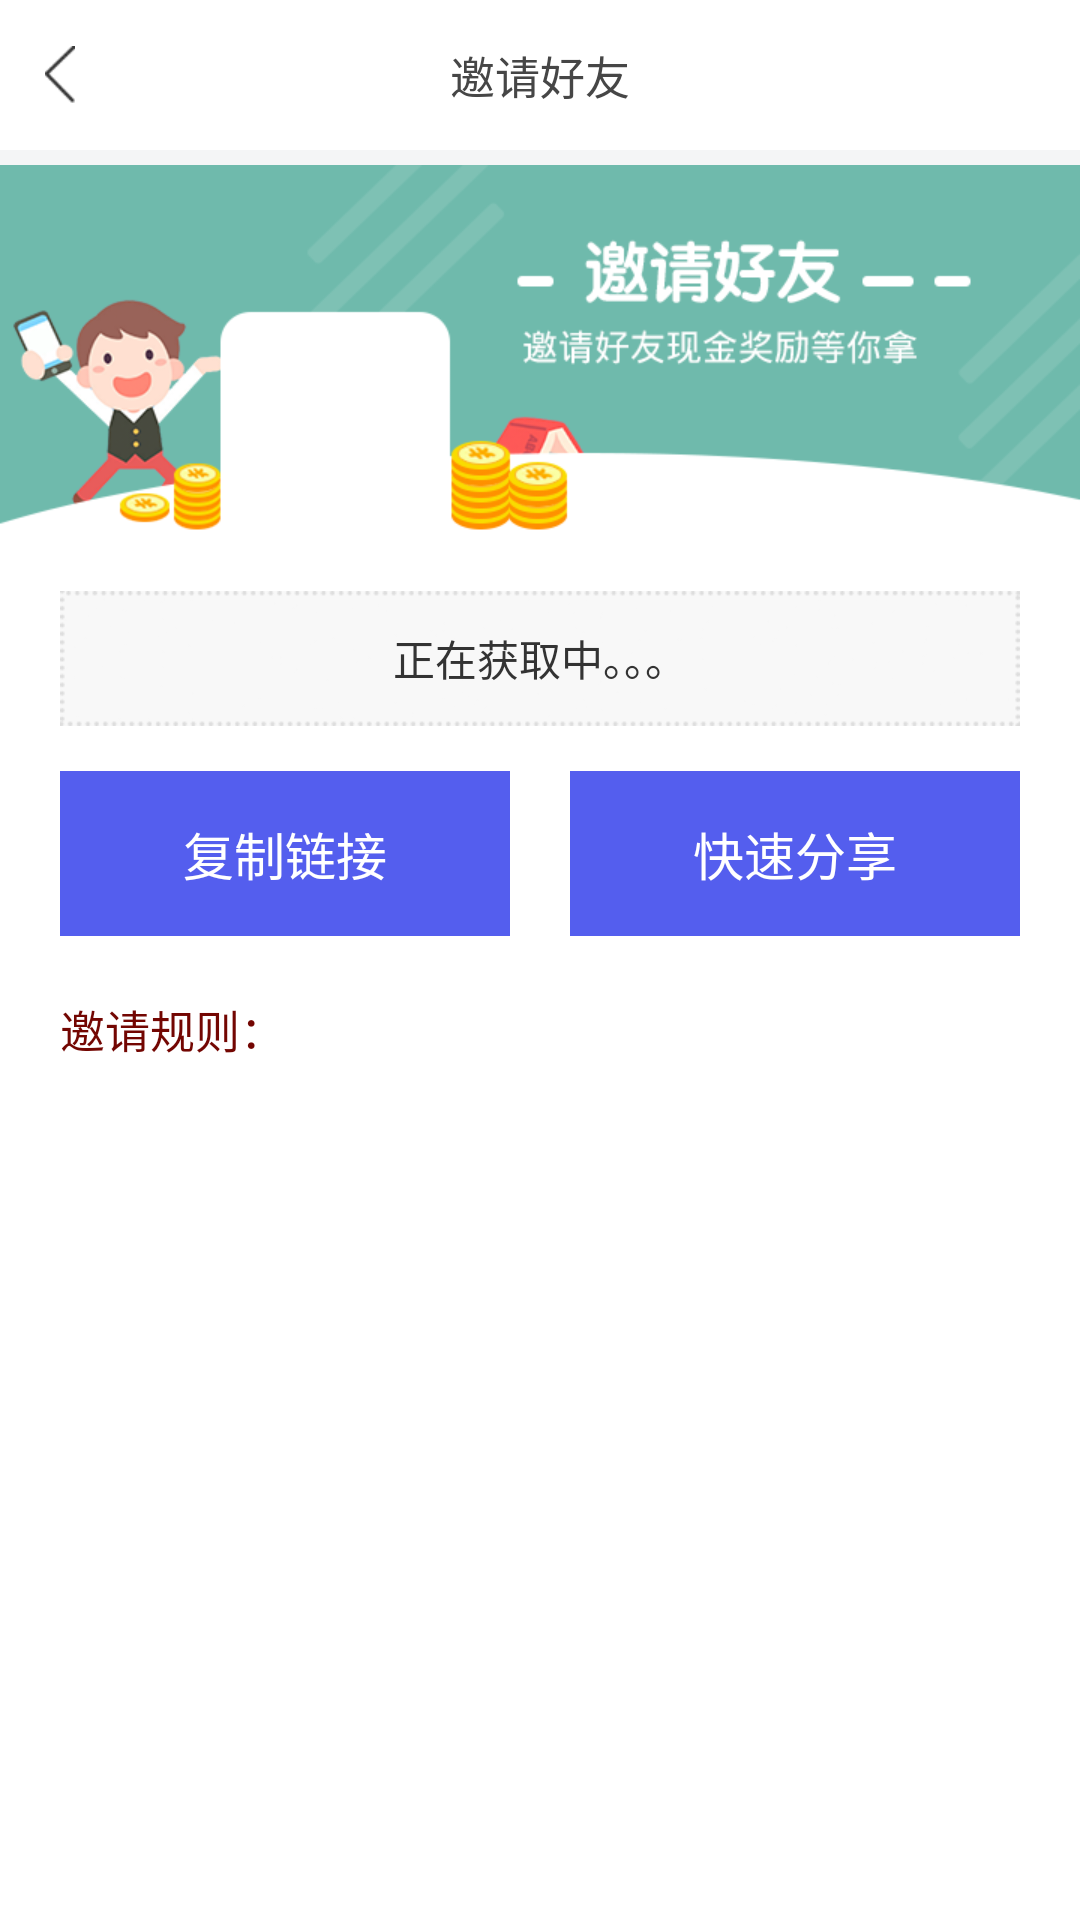

Screen size 1080x1920. Icon name, then its box in pixels as (x1, y1, x2, y2):
back: (45, 46, 75, 103)
